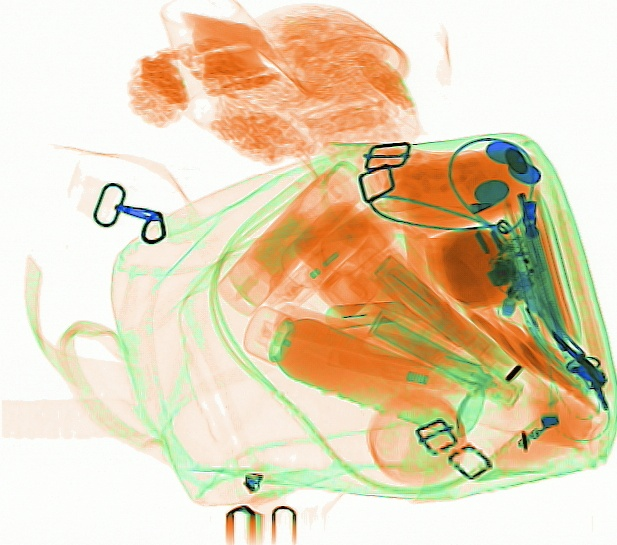pressure: (239, 304, 486, 437)
